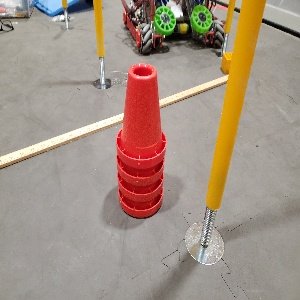Red_4: (117, 61, 166, 215)
